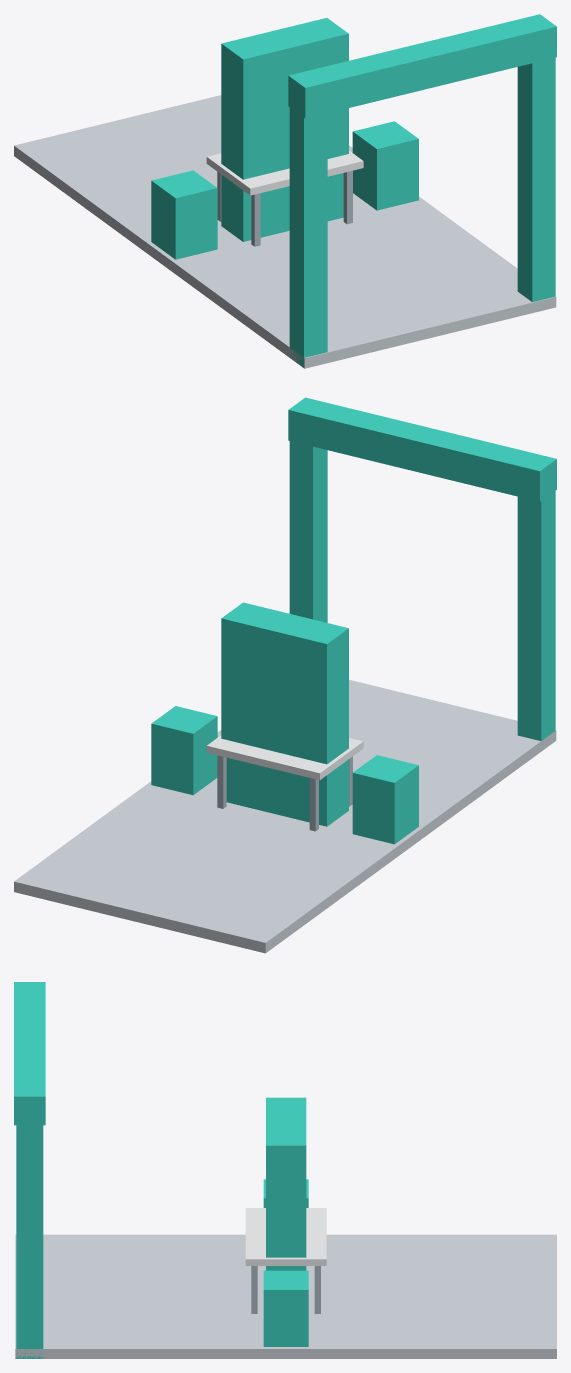
3 renders of one model, top to bottom at view 1: azimuth 30°, elevation 25°; view 2: azimuth 150°, elevation 25°; view 3: azimuth 270°, elevation 25°, orthographic. The views are drawn at different scales.
Visible parts, largest first — view 1: Exhibition Booth Concept; view 2: Exhibition Booth Concept; view 3: Exhibition Booth Concept.
Part boxes in pixels (bbox=[...]): Exhibition Booth Concept: bbox=[14, 14, 556, 368]; Exhibition Booth Concept: bbox=[14, 397, 556, 953]; Exhibition Booth Concept: bbox=[14, 982, 556, 1358].
Bounding box in the file's own units: 3 × 3.2 × 6.02.
